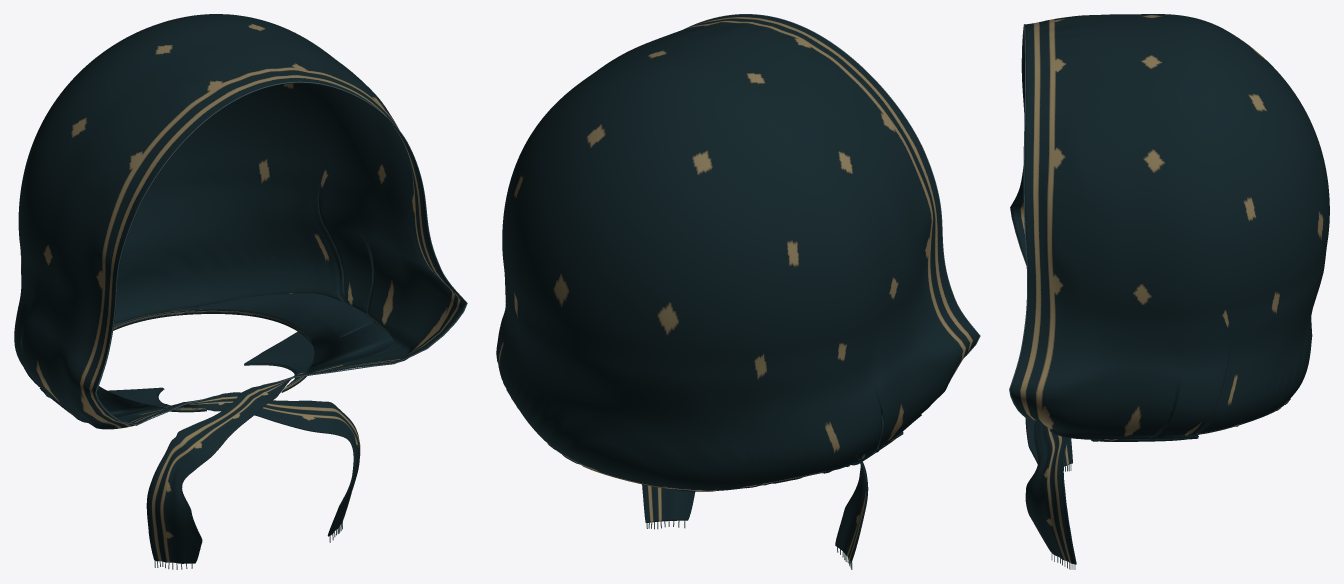
The model's file is Feminine-Feminine-straight-tshirt-pashmina250-headgear-b949cf31.glb.
3 renders of one model, left to right at view 1: azimuth 30°, elevation 25°; view 2: azimuth 150°, elevation 25°; view 3: azimuth 270°, elevation 25°, orthographic. The views are drawn at different scales.
Parts seen in each view (by area): view 1: 226 headgear / Headwear / continuous woven pashmina239, 226 headgear / Headwear / face edge239; view 2: 226 headgear / Headwear / continuous woven pashmina239, 226 headgear / Headwear / face edge239; view 3: 226 headgear / Headwear / continuous woven pashmina239, 226 headgear / Headwear / face edge239.
Part boxes in pixels (left/top/right/bottom): 226 headgear / Headwear / continuous woven pashmina239: left=14, top=14, right=466, bottom=563; 226 headgear / Headwear / face edge239: left=95, top=81, right=467, bottom=425; 226 headgear / Headwear / continuous woven pashmina239: left=496, top=14, right=979, bottom=562; 226 headgear / Headwear / face edge239: left=685, top=14, right=980, bottom=357; 226 headgear / Headwear / continuous woven pashmina239: left=1010, top=14, right=1329, bottom=564; 226 headgear / Headwear / face edge239: left=1009, top=24, right=1031, bottom=418.
Bounding box in the file's own units: 0.9778 × 1.23 × 0.7233.
Materials: 3 (1 with a texture image).
